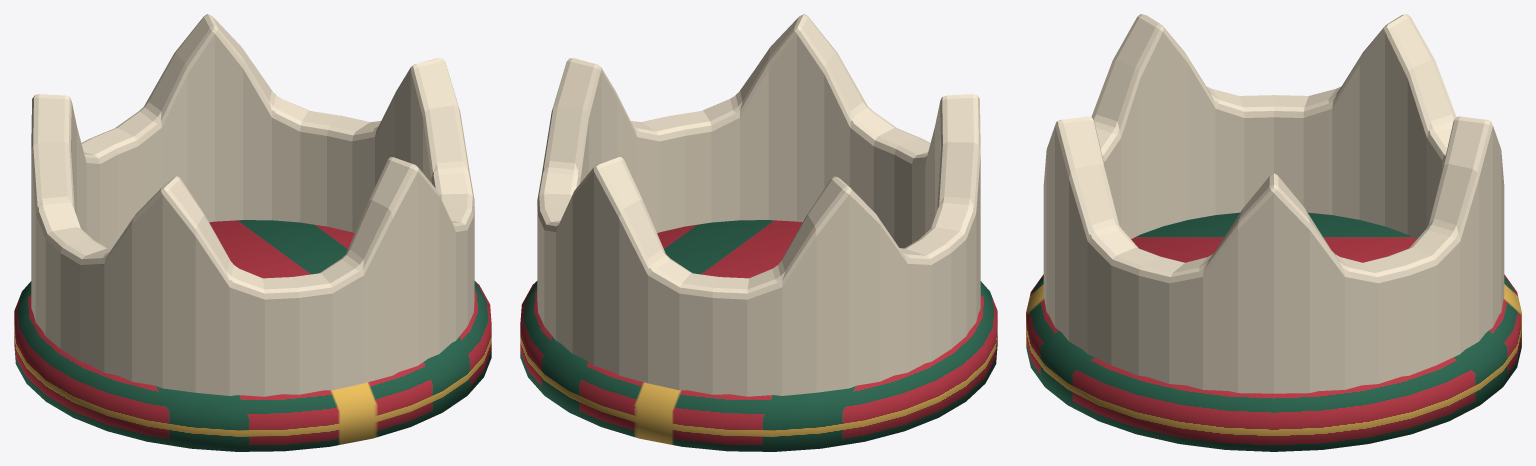
Rendered from ACC_TH_ROYAL_Primary.fbx.
The picture shows the model from 3 angles, left to right: view 1: azimuth 30°, elevation 25°; view 2: azimuth 150°, elevation 25°; view 3: azimuth 270°, elevation 25°; orthographic projection. The views are drawn at different scales.
Visible parts, largest first — view 1: ACC_TH_ROYAL_Primary; view 2: ACC_TH_ROYAL_Primary; view 3: ACC_TH_ROYAL_Primary.
Part boxes in pixels (left/top/right/bottom): ACC_TH_ROYAL_Primary: left=14, top=14, right=491, bottom=451; ACC_TH_ROYAL_Primary: left=520, top=14, right=997, bottom=451; ACC_TH_ROYAL_Primary: left=1026, top=14, right=1521, bottom=451.
Size of the model in its own units: 84 by 51.46 by 84.
